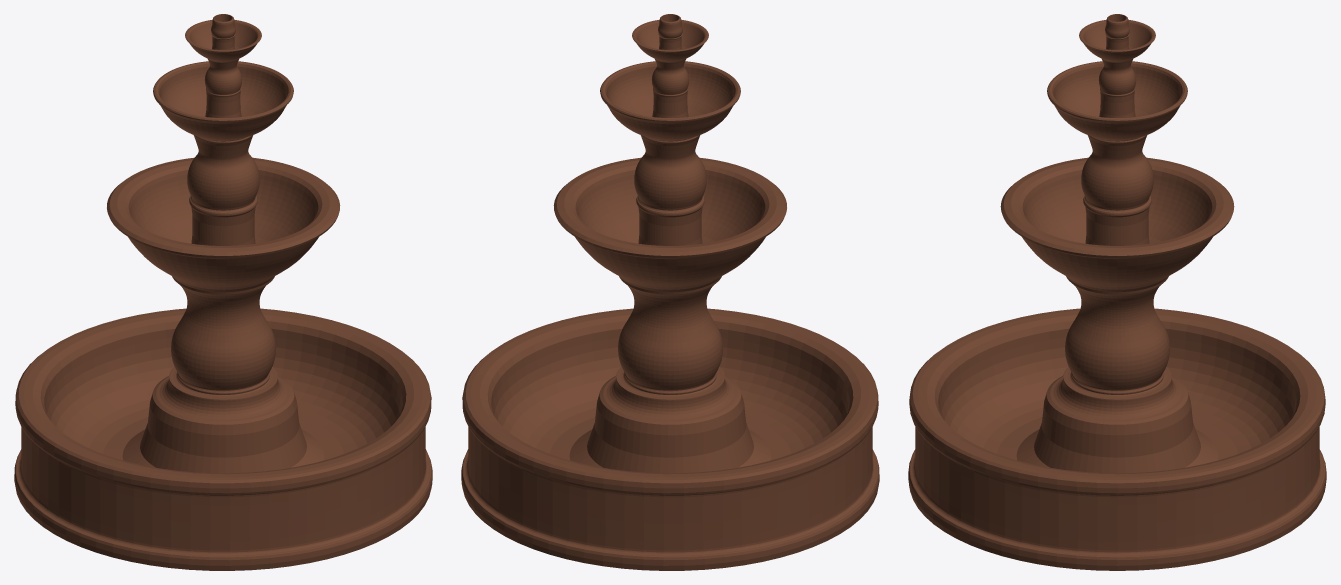
Rendered from fountain.fbx.
3 views of the same model, side by side, from view 1: azimuth 30°, elevation 25°; view 2: azimuth 150°, elevation 25°; view 3: azimuth 270°, elevation 25° (orthographic).
Parts seen in each view (by area): view 1: Cylinder; view 2: Cylinder; view 3: Cylinder.
Boxes of the visible parts, left/top/right/bottom form: Cylinder: left=14, top=14, right=432, bottom=570; Cylinder: left=461, top=14, right=879, bottom=570; Cylinder: left=908, top=14, right=1326, bottom=570.
Size of the model in its own units: 309 by 380 by 309.
